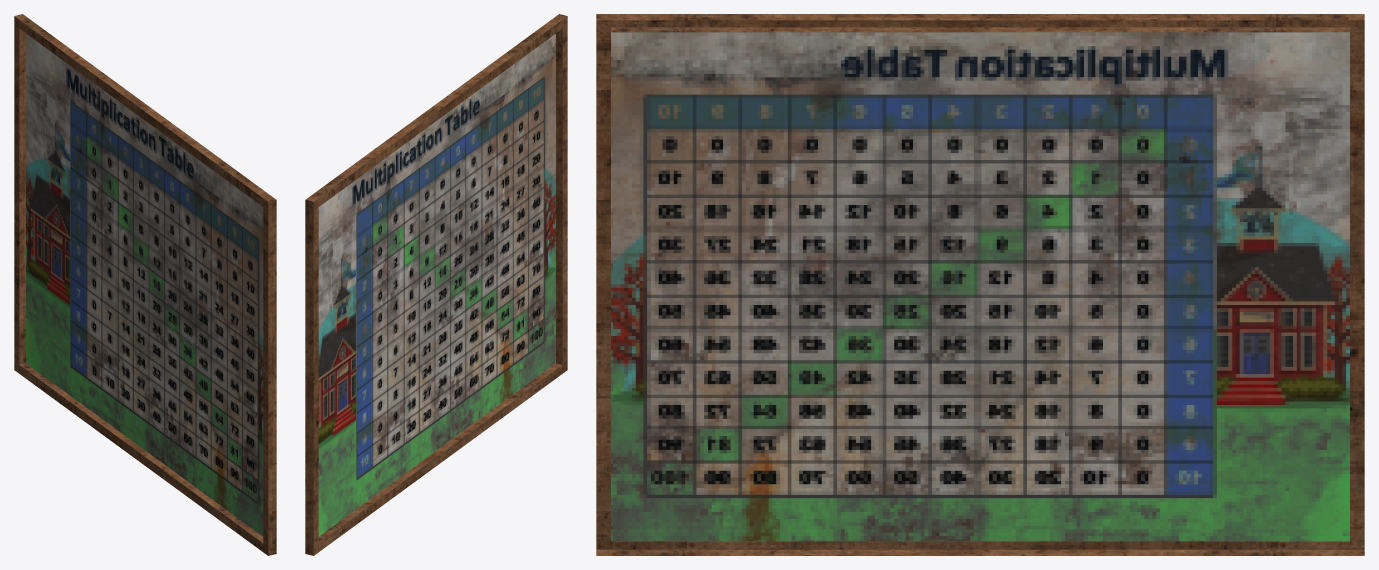
Rendered from _frame_1.FBX.
3 renders of one model, left to right at view 1: azimuth 30°, elevation 25°; view 2: azimuth 150°, elevation 25°; view 3: azimuth 270°, elevation 25°, orthographic. The views are drawn at different scales.
Parts seen in each view (by area): view 1: _frame_1; view 2: _frame_1; view 3: _frame_1.
Boxes of the visible parts, left/top/right/bottom form: _frame_1: left=14, top=14, right=276, bottom=555; _frame_1: left=305, top=14, right=567, bottom=555; _frame_1: left=596, top=14, right=1364, bottom=555.
Bounding box in the file's own units: 2.5 × 100 × 130.
2 materials, 2 textured.
